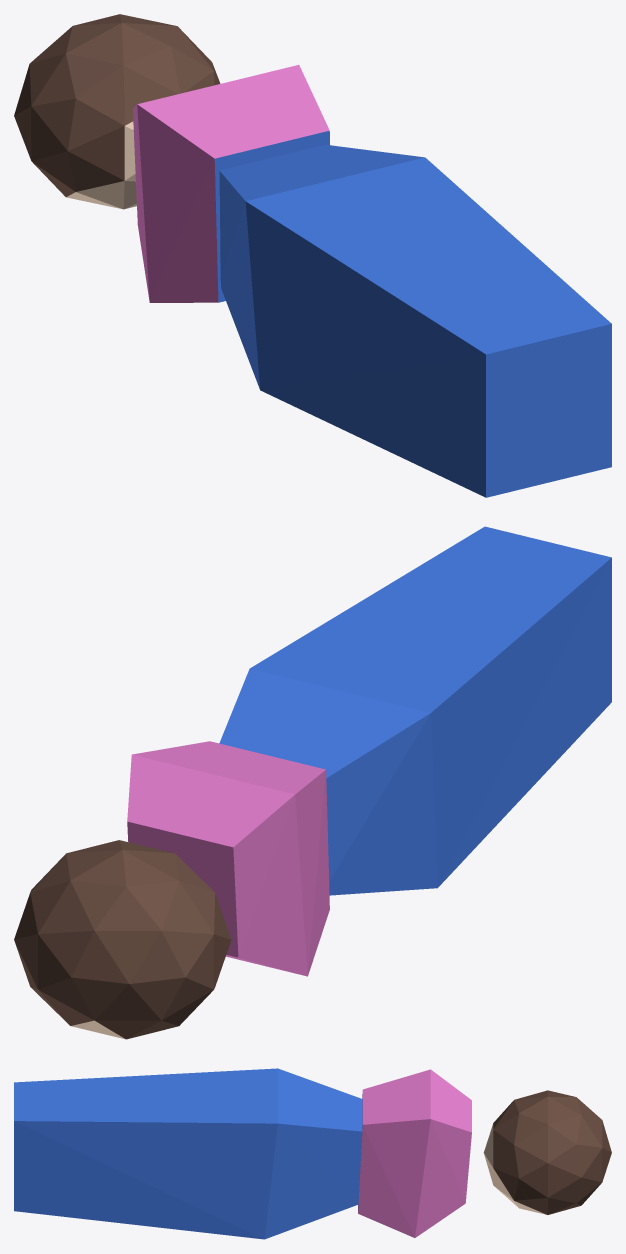
The model's file is woman4.dae.
3 views of the same model, one above another, from view 1: azimuth 30°, elevation 25°; view 2: azimuth 150°, elevation 25°; view 3: azimuth 270°, elevation 25° (orthographic). The views are drawn at different scales.
Parts seen in each view (by area): view 1: Cube.011; view 2: Cube.011; view 3: Cube.011.
Part boxes in pixels (x1,y1,x2,y2): Cube.011: (14,14,611,497); Cube.011: (14,526,611,1039); Cube.011: (14,1068,611,1239).
Bounding box in the file's own units: 0.3364 × 1.51 × 0.3316.
